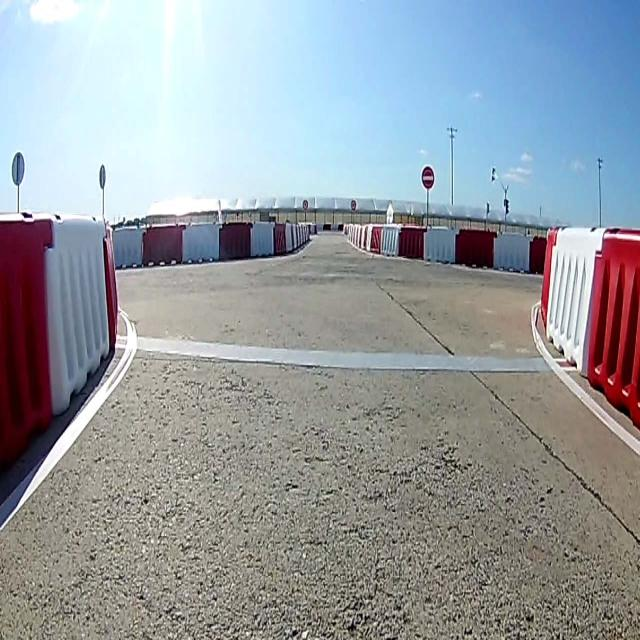girisyok: (422, 167, 434, 190)
